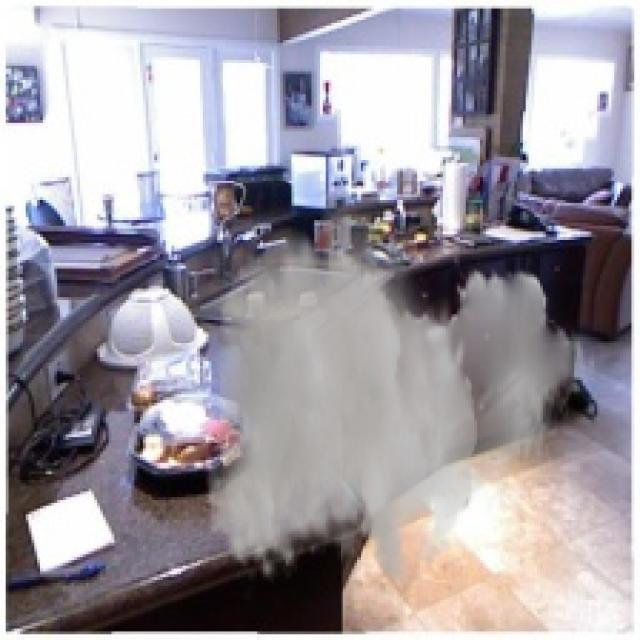Smoke: (205, 183, 598, 586)
